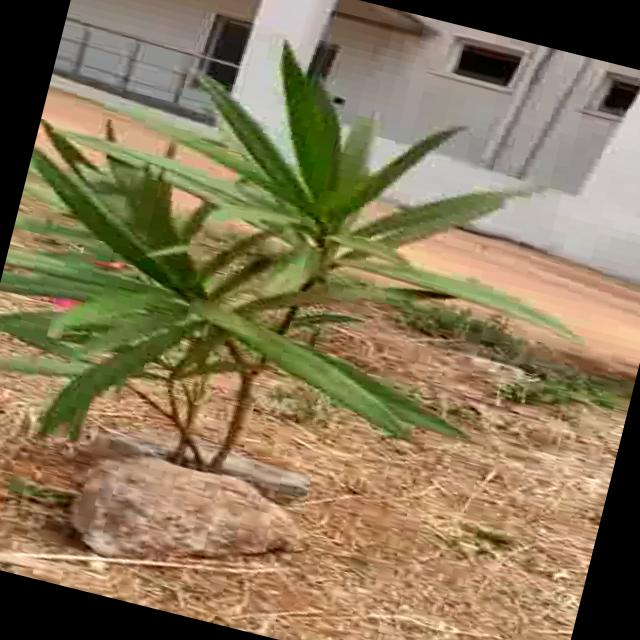OLEANDER: (0, 9, 591, 527)
